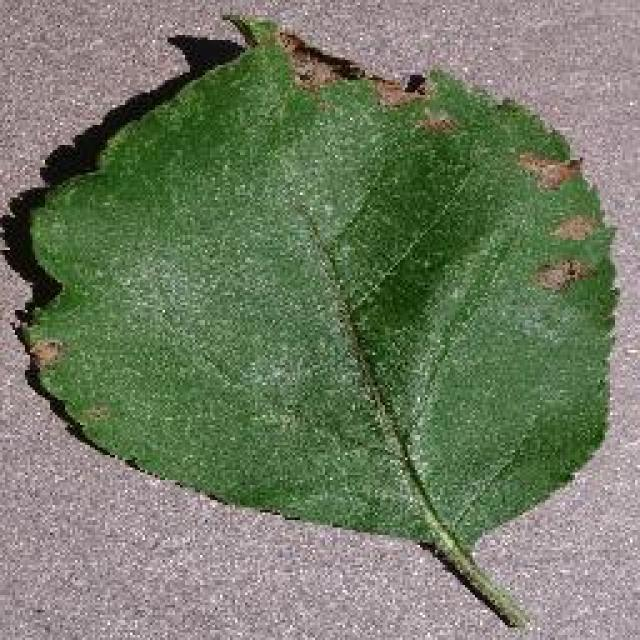Black_rot: (18, 10, 620, 630)
